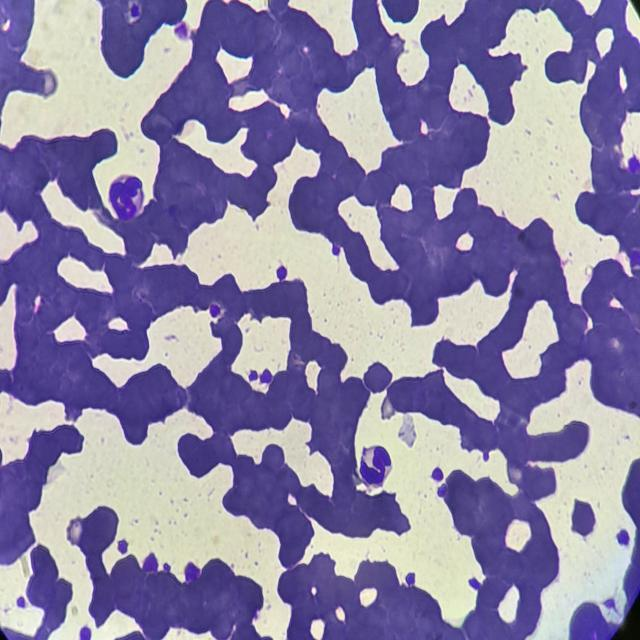Neutrofilo: (108, 175, 145, 222), (357, 447, 394, 489)
